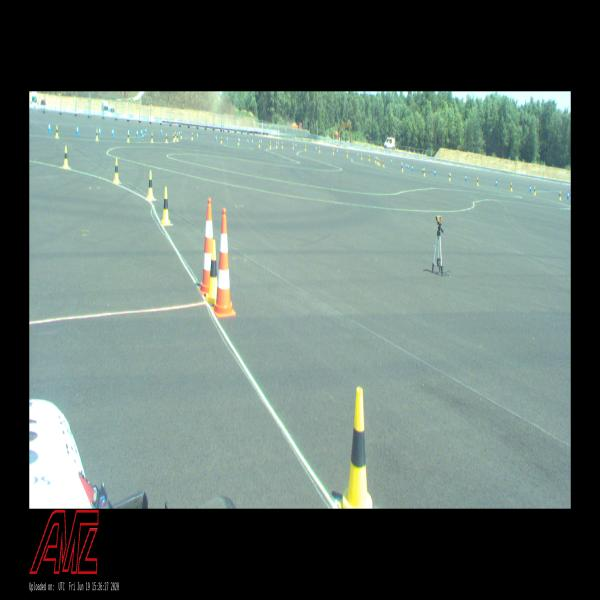blue_cone: (48, 121, 51, 133), (76, 124, 79, 136), (140, 128, 143, 137), (127, 128, 130, 137), (495, 178, 498, 186), (99, 126, 101, 136), (567, 190, 569, 200), (136, 128, 138, 137), (112, 127, 114, 136), (145, 126, 147, 134), (529, 184, 531, 192), (216, 134, 218, 142), (434, 168, 436, 176), (465, 174, 467, 182), (422, 166, 424, 174), (411, 164, 413, 171), (407, 163, 409, 170), (449, 172, 451, 179), (160, 128, 162, 134), (247, 138, 249, 144), (405, 163, 407, 169), (295, 143, 297, 149), (336, 149, 338, 154), (315, 146, 317, 151), (357, 153, 359, 158), (197, 132, 198, 139), (179, 130, 180, 137), (252, 138, 253, 145), (227, 136, 228, 142), (278, 141, 279, 147), (261, 139, 262, 145), (376, 156, 377, 162), (391, 159, 392, 164), (401, 162, 402, 167), (239, 138, 240, 142)
large_orange_cone: (210, 208, 236, 318), (198, 198, 213, 294)
yellow_cone: (337, 387, 375, 508), (205, 240, 218, 304), (160, 187, 172, 225), (147, 170, 154, 200), (113, 158, 120, 183), (63, 146, 69, 168), (95, 129, 99, 140), (558, 191, 562, 200), (165, 133, 168, 143), (127, 132, 130, 142), (476, 177, 479, 186), (533, 187, 536, 195), (401, 164, 404, 172), (56, 126, 58, 137), (448, 173, 451, 180), (151, 133, 153, 143), (173, 133, 175, 142), (510, 183, 512, 191), (220, 136, 222, 144), (258, 140, 260, 148), (423, 168, 425, 176), (192, 132, 194, 140), (180, 131, 182, 138), (292, 143, 294, 150), (382, 160, 384, 167), (378, 158, 380, 165), (368, 155, 370, 161), (332, 148, 334, 154), (270, 141, 271, 149), (238, 138, 239, 146), (177, 133, 178, 141), (319, 146, 320, 153), (175, 132, 176, 139), (377, 157, 378, 164), (347, 151, 348, 157), (282, 142, 283, 148), (361, 154, 362, 160), (305, 144, 306, 150), (375, 157, 376, 163), (276, 142, 277, 148)
